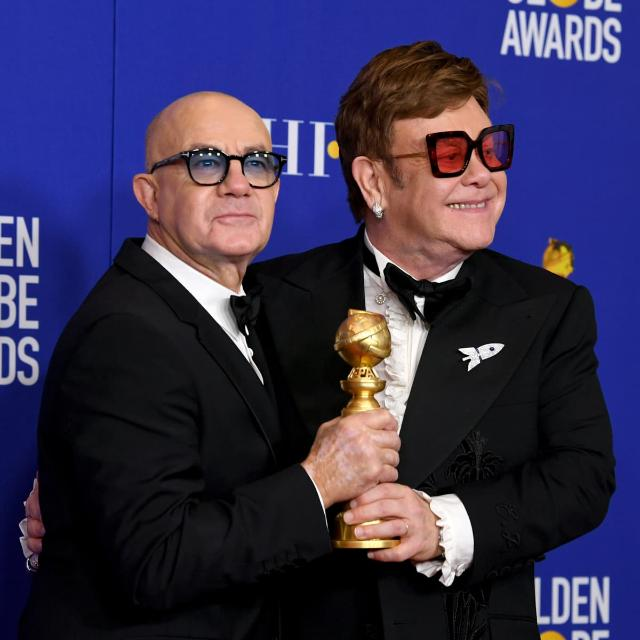Sunglasses: (361, 124, 521, 178)
glasses: (139, 142, 295, 190)
